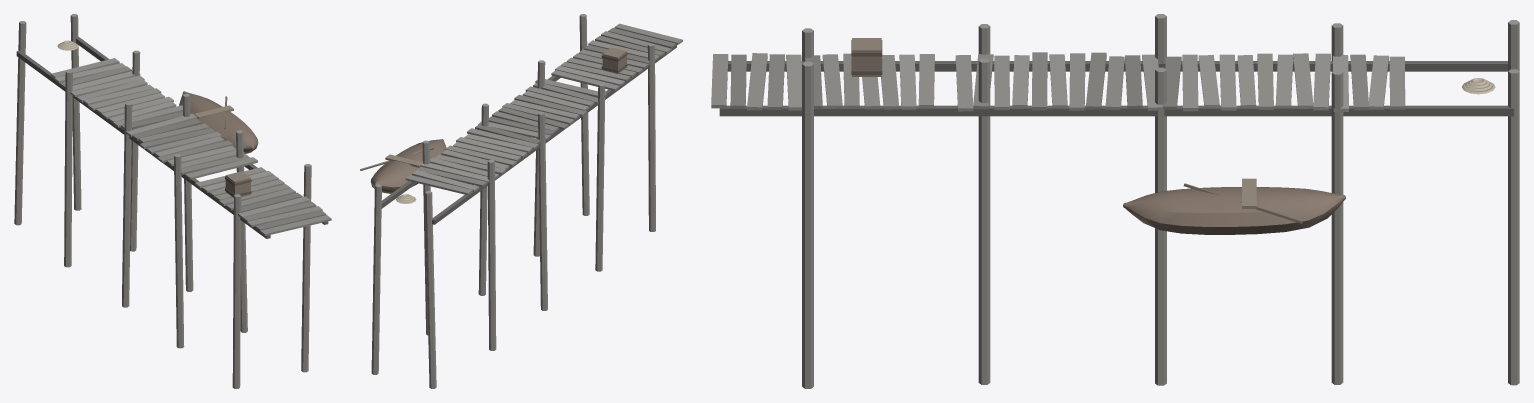
The model's file is dock_1.gltf.
3 renders of one model, left to right at view 1: azimuth 30°, elevation 25°; view 2: azimuth 150°, elevation 25°; view 3: azimuth 270°, elevation 25°, orthographic. The views are drawn at different scales.
Visible parts, largest first — view 1: Body; view 2: Body; view 3: Body.
Part boxes in pixels (<box>): Body: <box>14,14,331,388</box>; Body: <box>360,14,682,388</box>; Body: <box>711,14,1519,388</box>.
Size of the model in its own units: 4.75 by 6.1 by 13.75.
